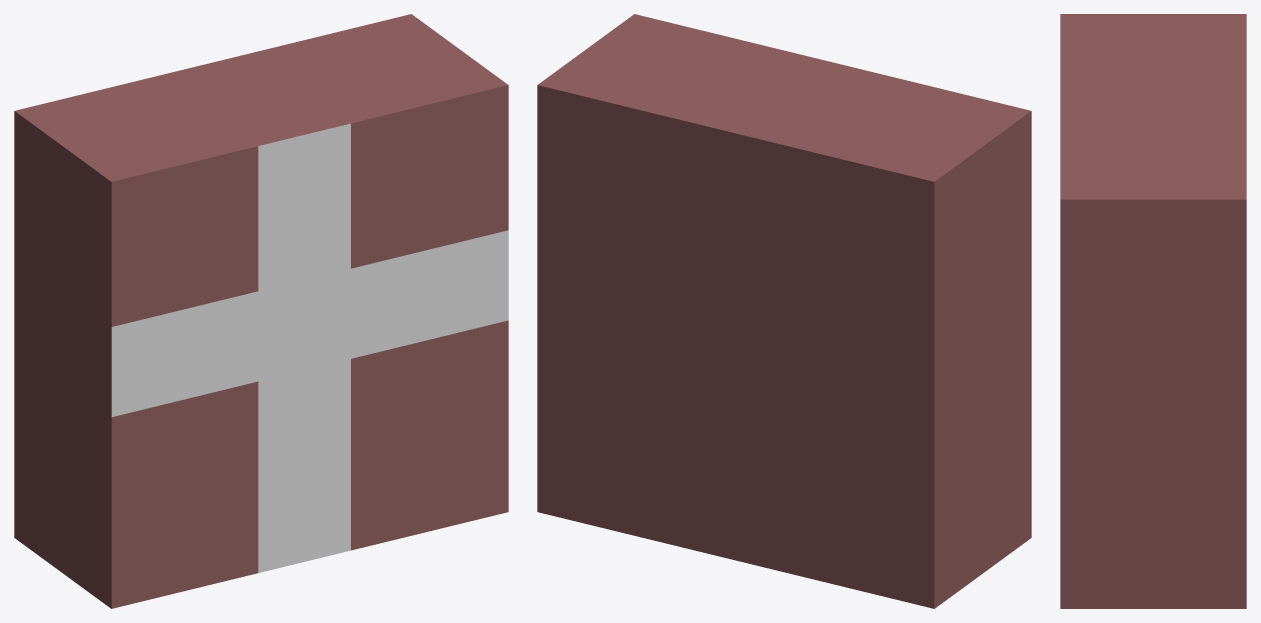
File: HealthP.fbx
The picture shows the model from 3 angles, left to right: view 1: azimuth 30°, elevation 25°; view 2: azimuth 150°, elevation 25°; view 3: azimuth 270°, elevation 25°; orthographic projection. The views are drawn at different scales.
Parts seen in each view (by area): view 1: pCube1; view 2: pCube1; view 3: pCube1.
Part boxes in pixels (<box>): pCube1: <box>14,14,508,608</box>; pCube1: <box>537,14,1031,608</box>; pCube1: <box>1060,14,1246,608</box>.
Bounding box in the file's own units: 2.77 × 2.85 × 1.17.
